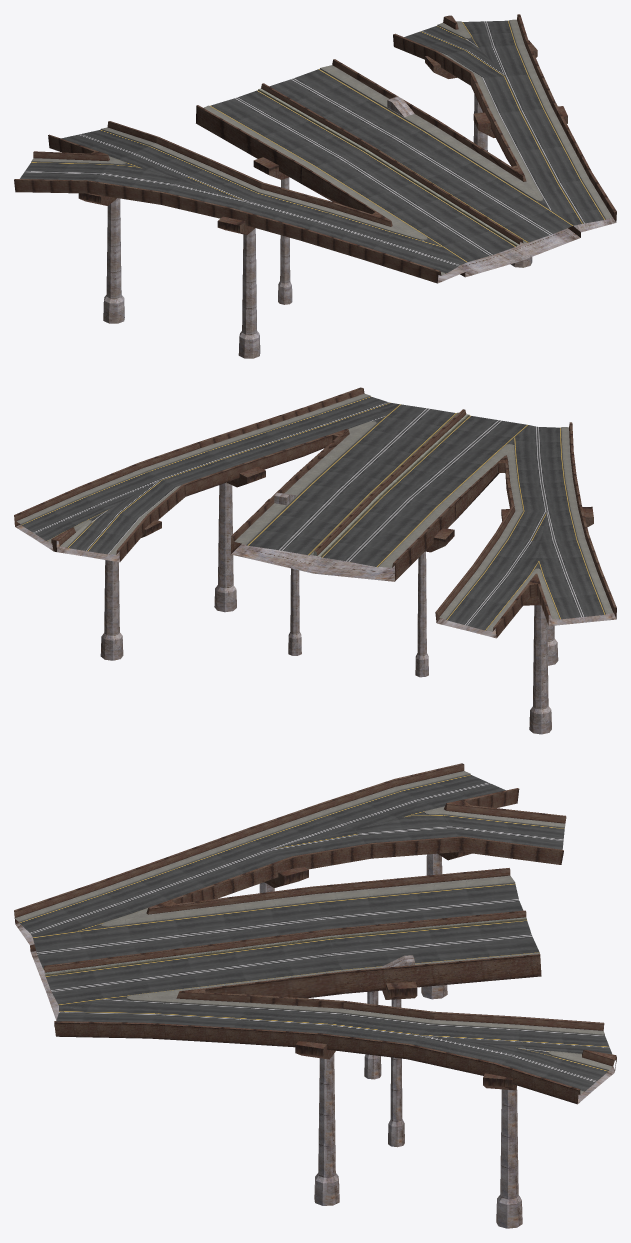
File: freeway5_lan2.obj
The picture shows the model from 3 angles, top to bottom: view 1: azimuth 30°, elevation 25°; view 2: azimuth 150°, elevation 25°; view 3: azimuth 270°, elevation 25°; orthographic projection. The views are drawn at different scales.
Visible parts, largest first — view 1: Freeway5_LAn2; view 2: Freeway5_LAn2; view 3: Freeway5_LAn2.
Part boxes in pixels (box(x1,y1,x2,y2)): Freeway5_LAn2: box(14, 14, 616, 358); Freeway5_LAn2: box(14, 387, 616, 734); Freeway5_LAn2: box(14, 763, 616, 1228).
Bounding box in the file's own units: 134 × 37.41 × 107.
